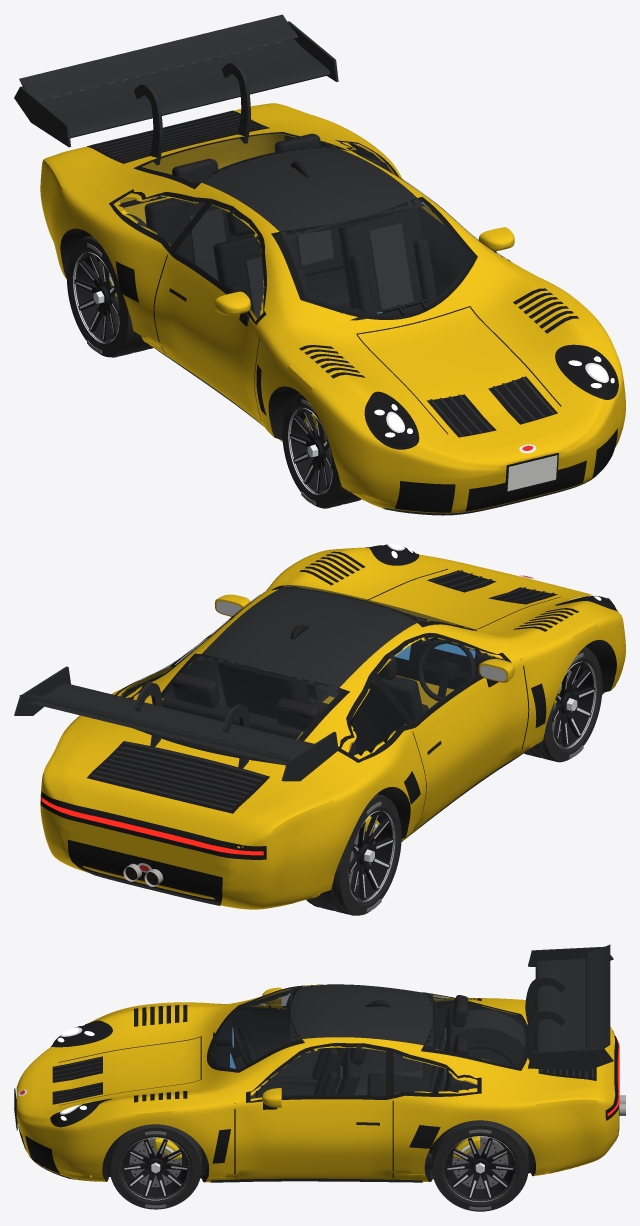
3 views of the same model, one above another, from view 1: azimuth 30°, elevation 25°; view 2: azimuth 150°, elevation 25°; view 3: azimuth 270°, elevation 25° (orthographic). The views are drawn at different scales.
Parts seen in each view (by area): view 1: Body, Wheel_RR, Wheel_FR; view 2: Body, Wheel_RR, Wheel_FR; view 3: Body, Wheel_RL, Wheel_FL, Wheel_RR.
Part boxes in pixels (x1,y1,x2,y2): Body: [14, 14, 625, 515]; Wheel_RR: [67, 235, 153, 357]; Wheel_FR: [282, 393, 361, 508]; Body: [14, 544, 625, 909]; Wheel_RR: [306, 794, 401, 915]; Wheel_FR: [524, 647, 602, 762]; Body: [14, 944, 625, 1182]; Wheel_RL: [432, 1120, 528, 1211]; Wheel_FL: [109, 1124, 201, 1209]; Wheel_RR: [468, 1038, 520, 1067].
Size of the model in its own units: 2.01 by 1.4 by 4.64.
